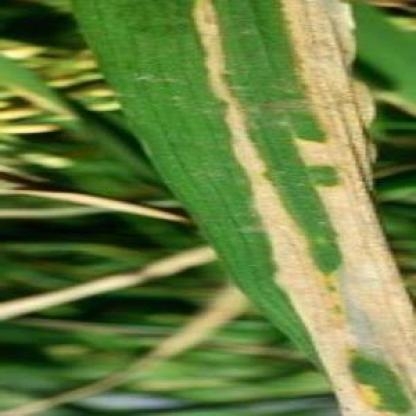Blight: (169, 1, 416, 416)
